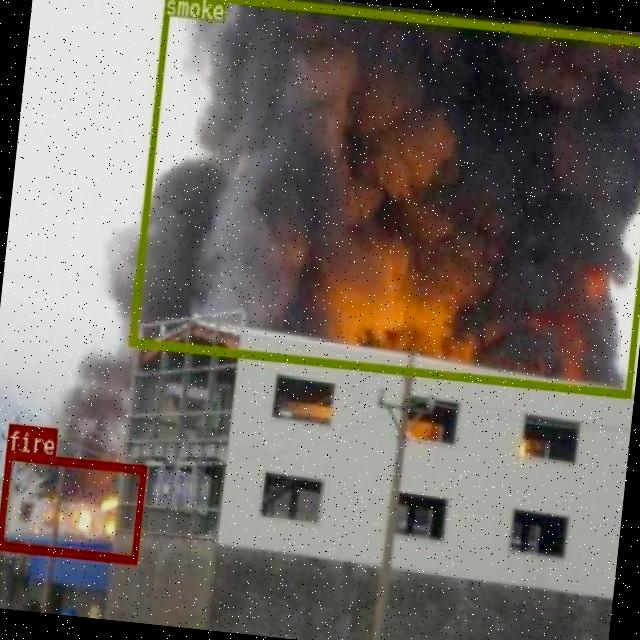fire: (0, 448, 145, 561)
smoke: (127, 0, 640, 395)
